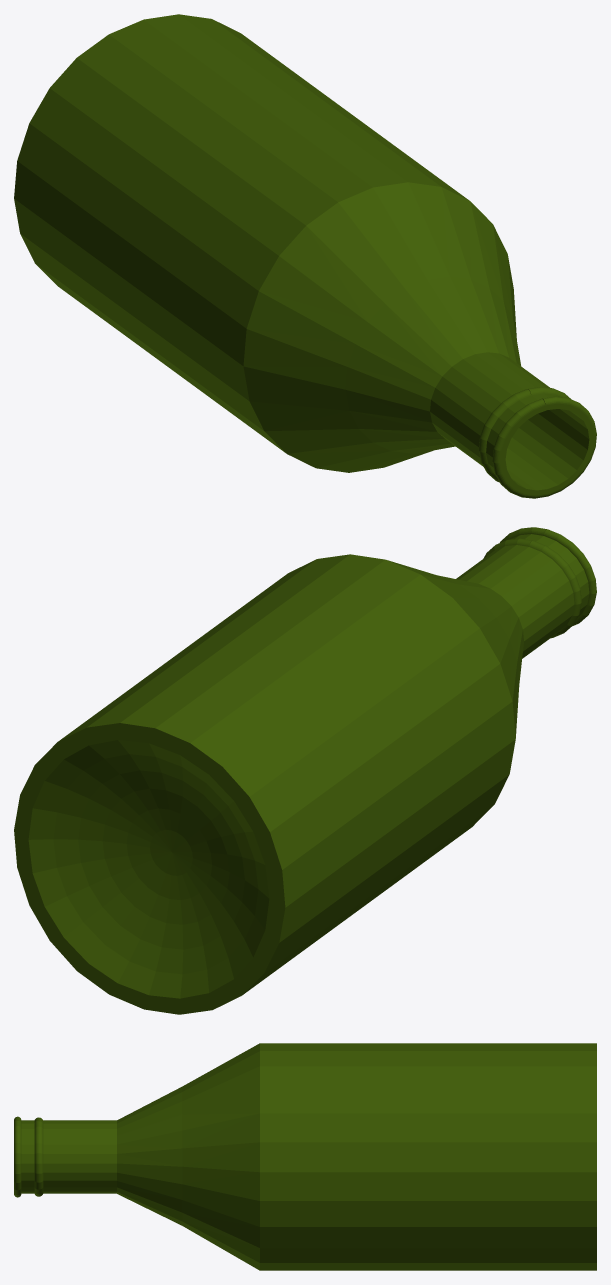
3 renders of one model, top to bottom at view 1: azimuth 30°, elevation 25°; view 2: azimuth 150°, elevation 25°; view 3: azimuth 270°, elevation 25°, orthographic. The views are drawn at different scales.
Parts seen in each view (by area): view 1: bottle; view 2: bottle; view 3: bottle.
Part boxes in pixels (box(x1,y1,x2,y2)): bottle: box(14, 14, 596, 498); bottle: box(14, 527, 596, 1014); bottle: box(14, 1043, 596, 1270).
Bounding box in the file's own units: 122 × 122 × 310.
